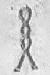V28: (5, 1, 45, 75)
